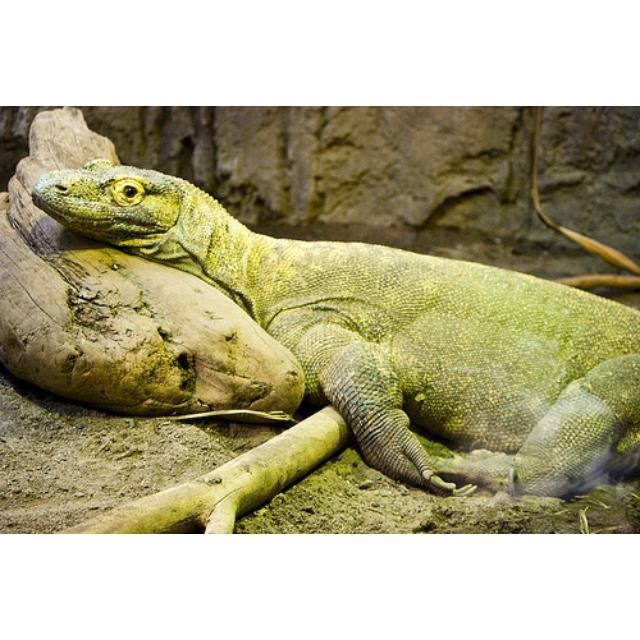KomodoDragon: (29, 155, 638, 499)
